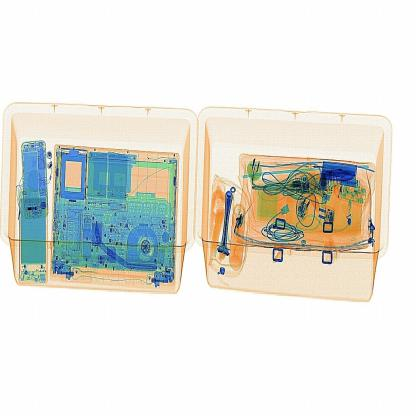knife: (320, 166, 357, 185)
